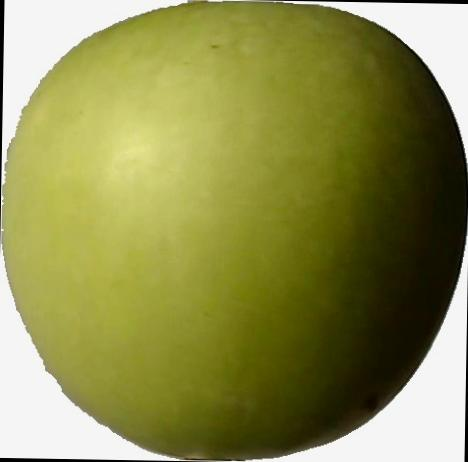Apple Unripe: (0, 0, 468, 452)
